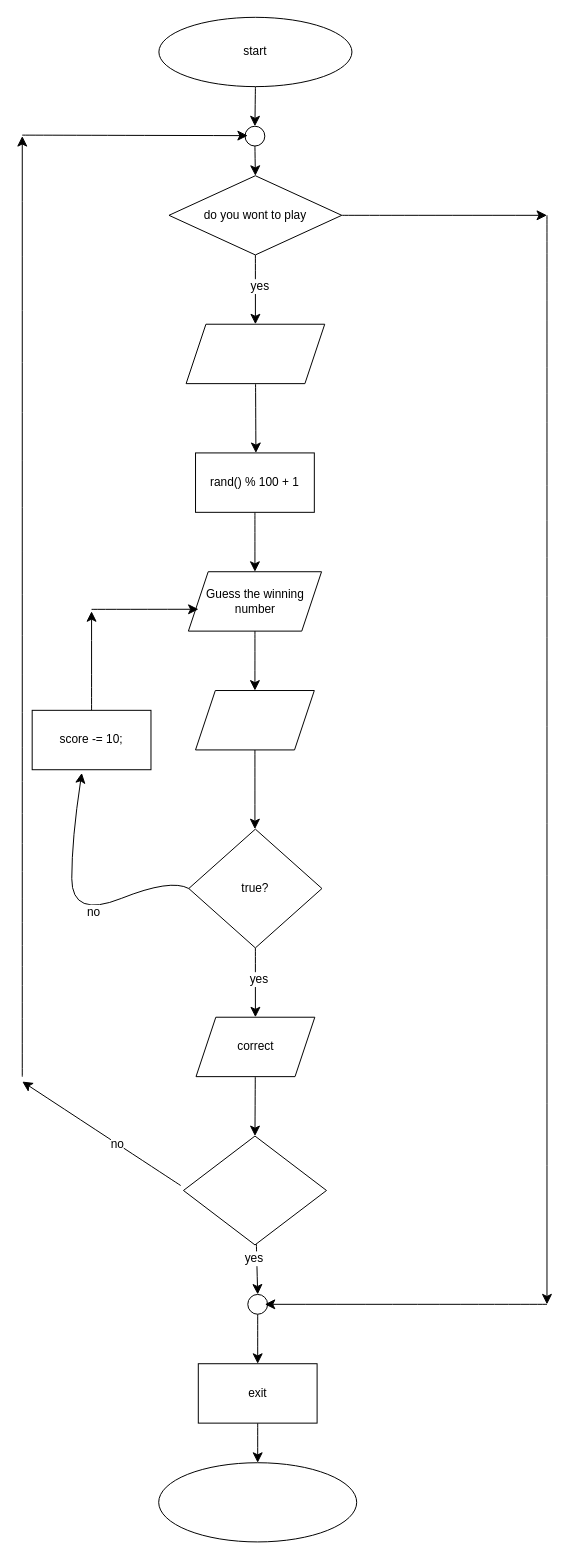
This 568x1559 diagram has some shape labels left out. Each missing label, with the centre of its shape:
"do you want to exit" belongs at [254,1190].
"end" belongs at [257,1502].
"Enter your number" belongs at [254,720].
"your score" belongs at [255,353].
